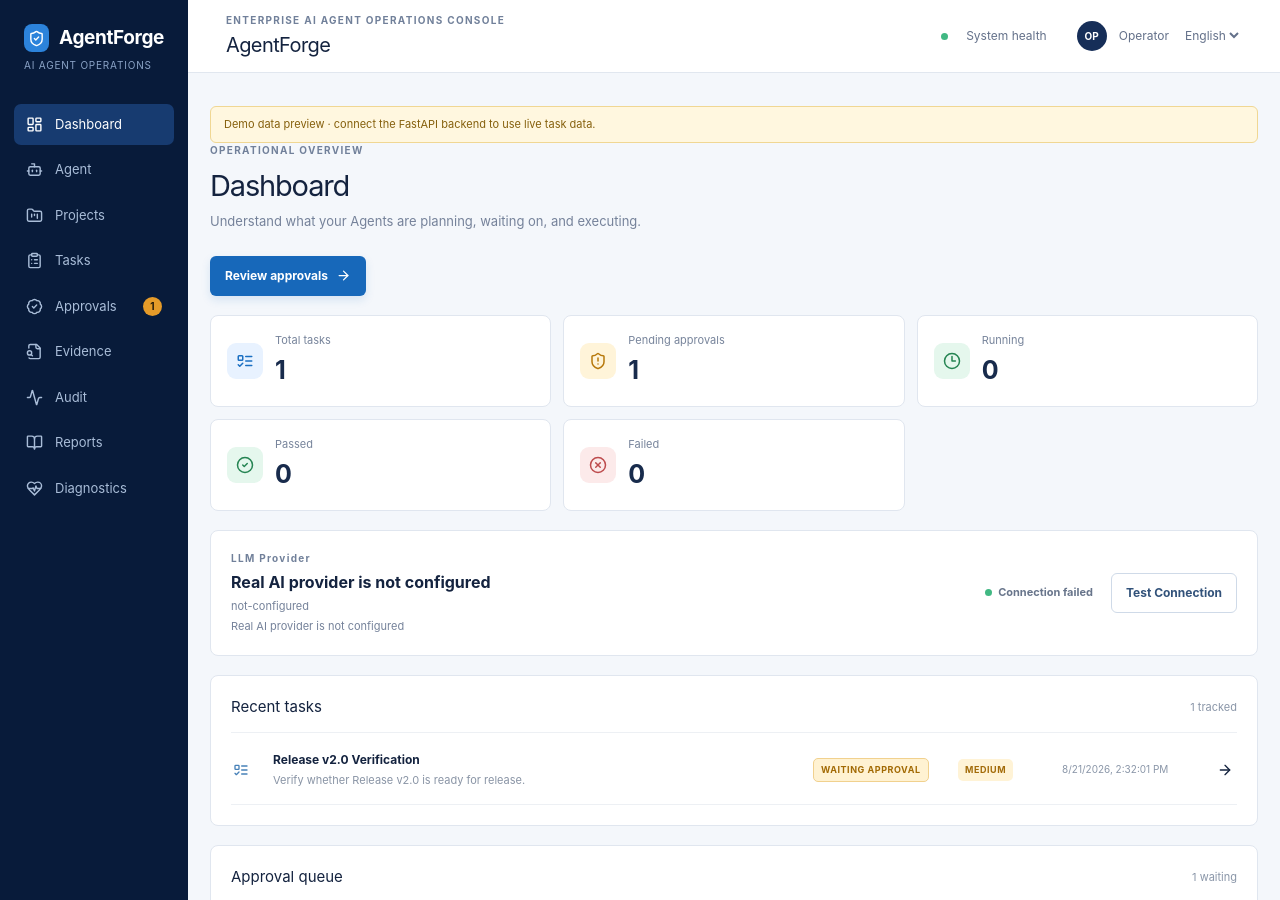
it: AgentForge operations console › renders the immediate provider result: not tested
Click the button "Test Connection". click: (1174, 592)
box: [1111,572,1237,612]
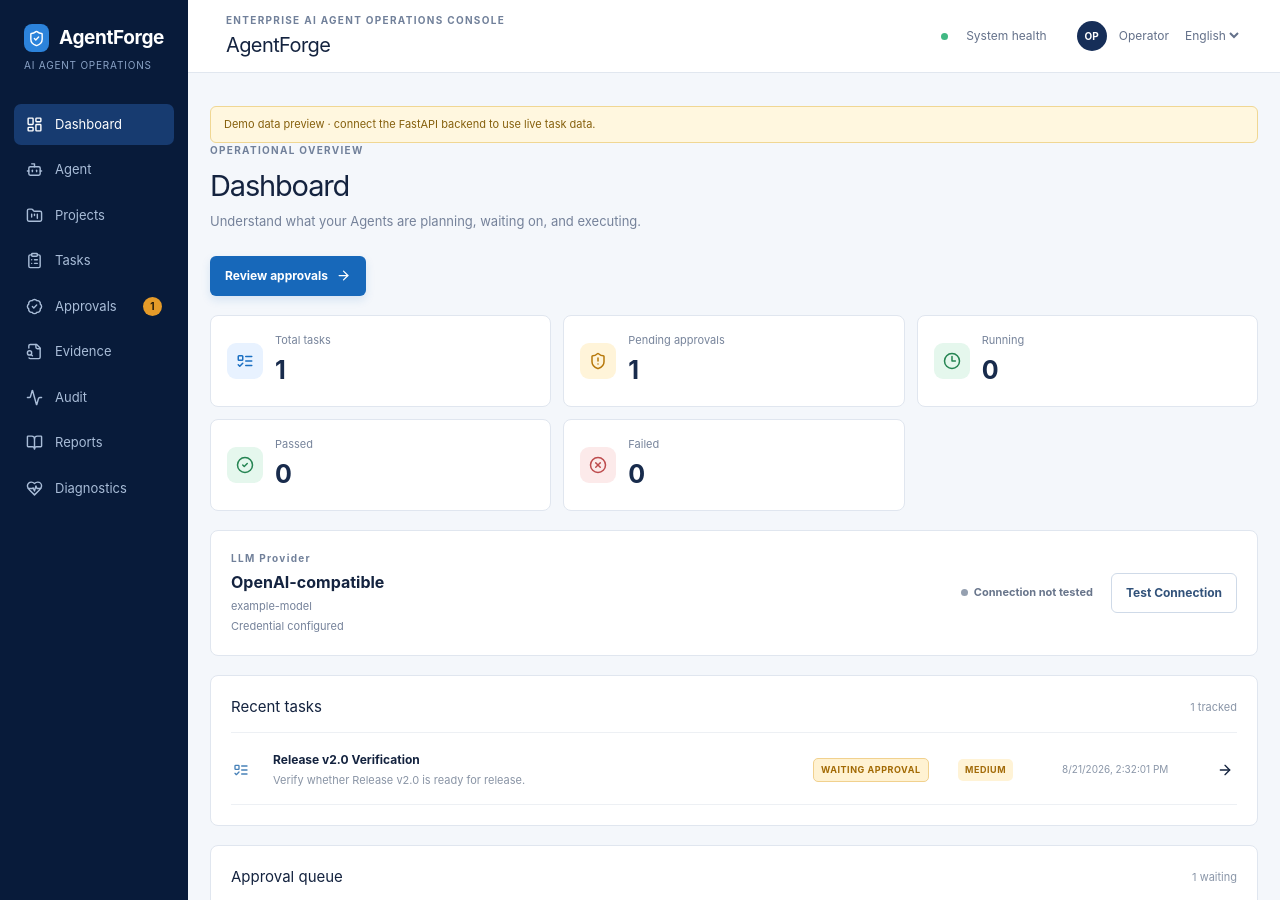
Expected: the text "Connection not tested" is shown, [961,584,1093,601]
